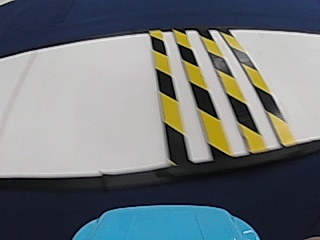bump: (142, 36, 294, 153)
